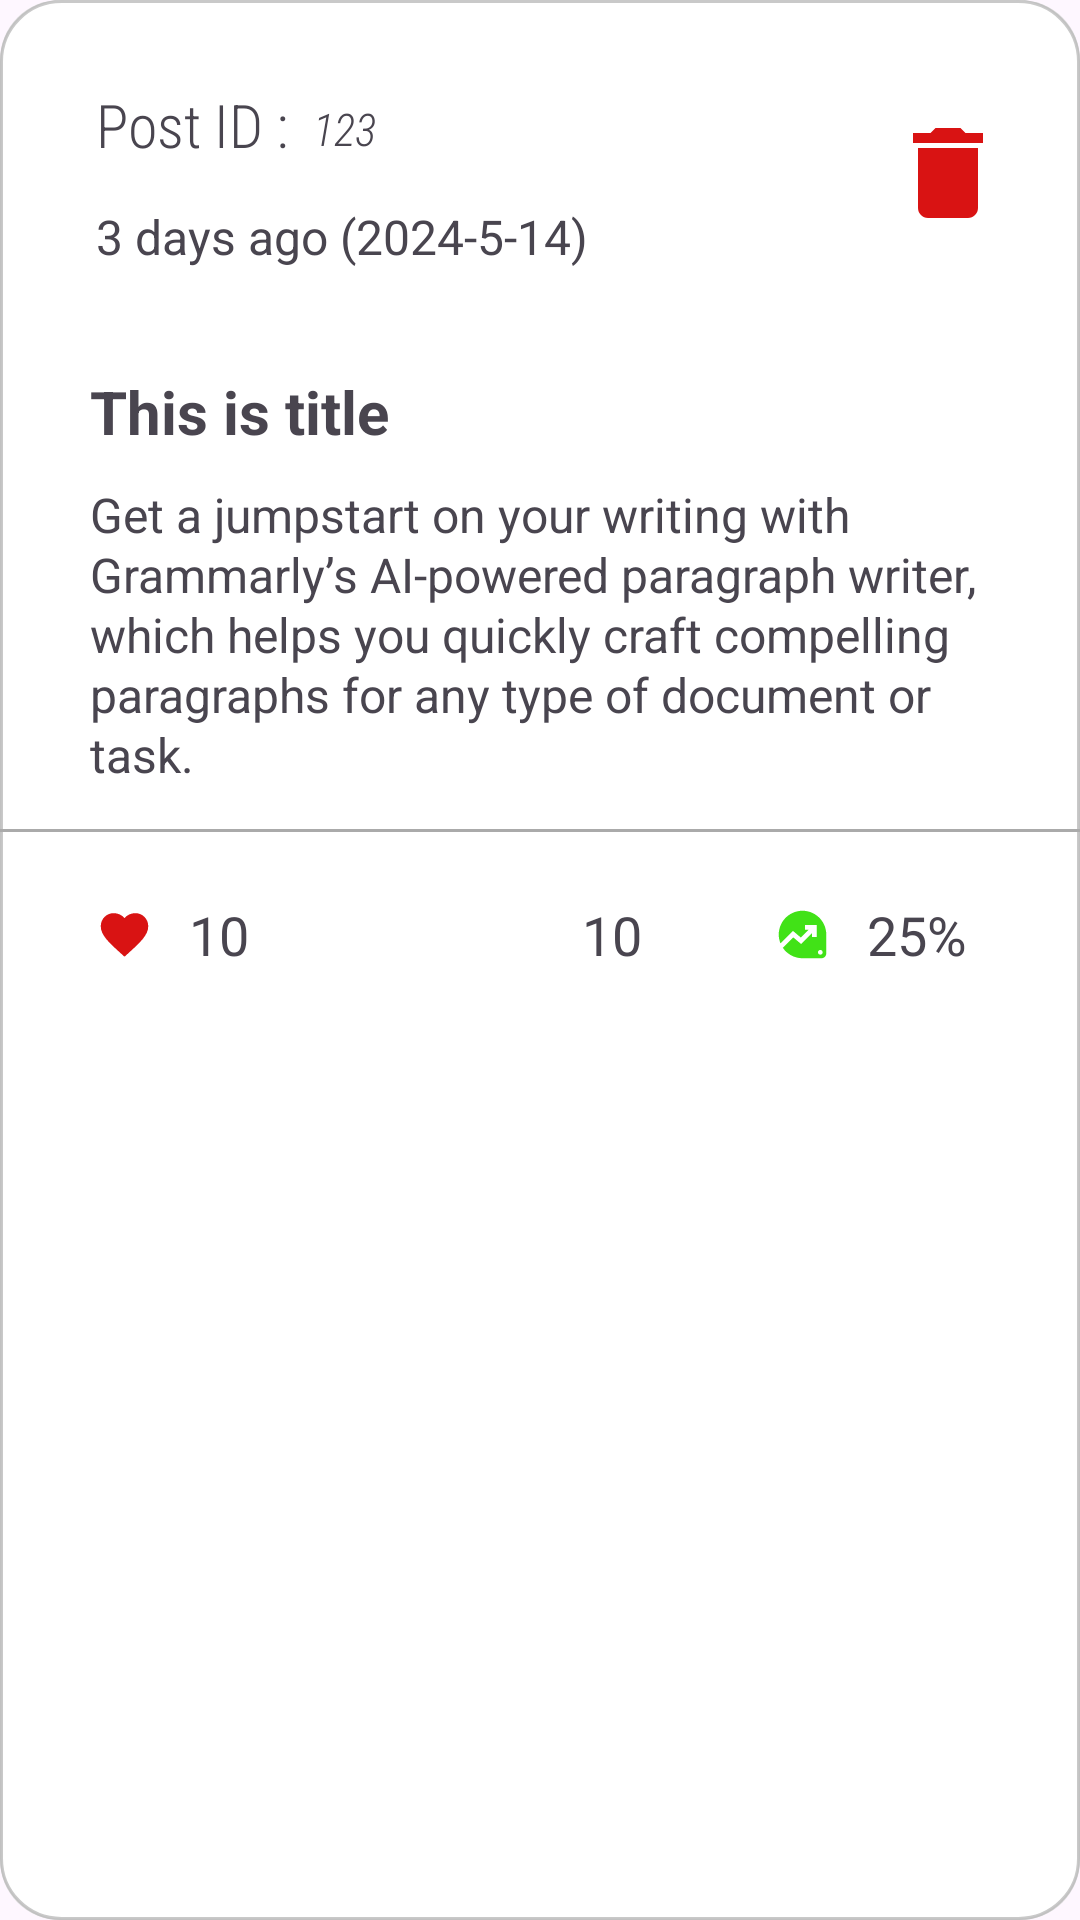

Icons on this 1080px×1920px Android screen, each with the point to tap as (x=x, y=y):
data exploration: (x=802, y=934)
delete: (x=948, y=173)
favorite: (x=124, y=935)
